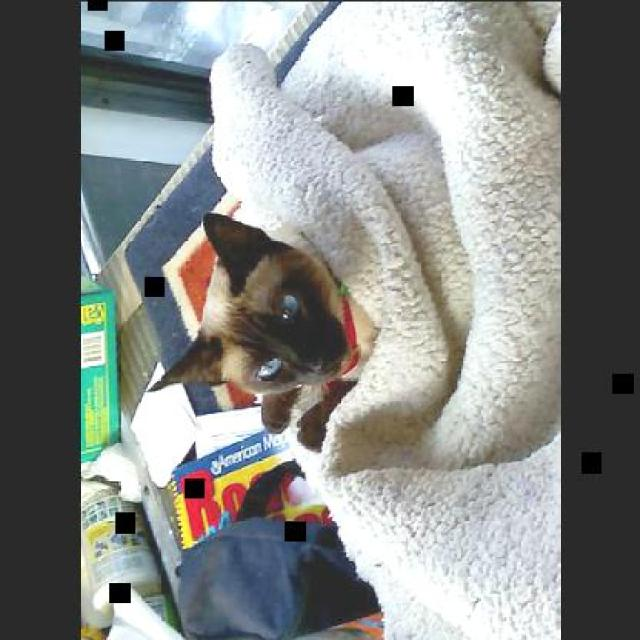unauthorized: (146, 209, 377, 451)
